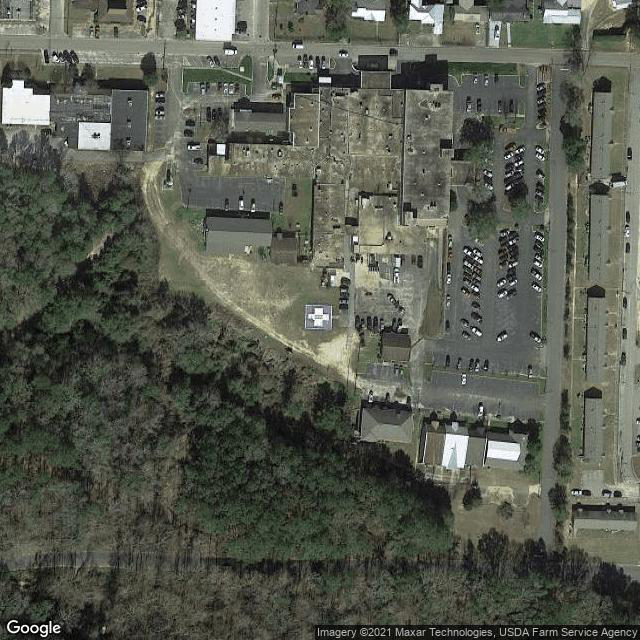Helipad: (302, 300, 335, 333)
